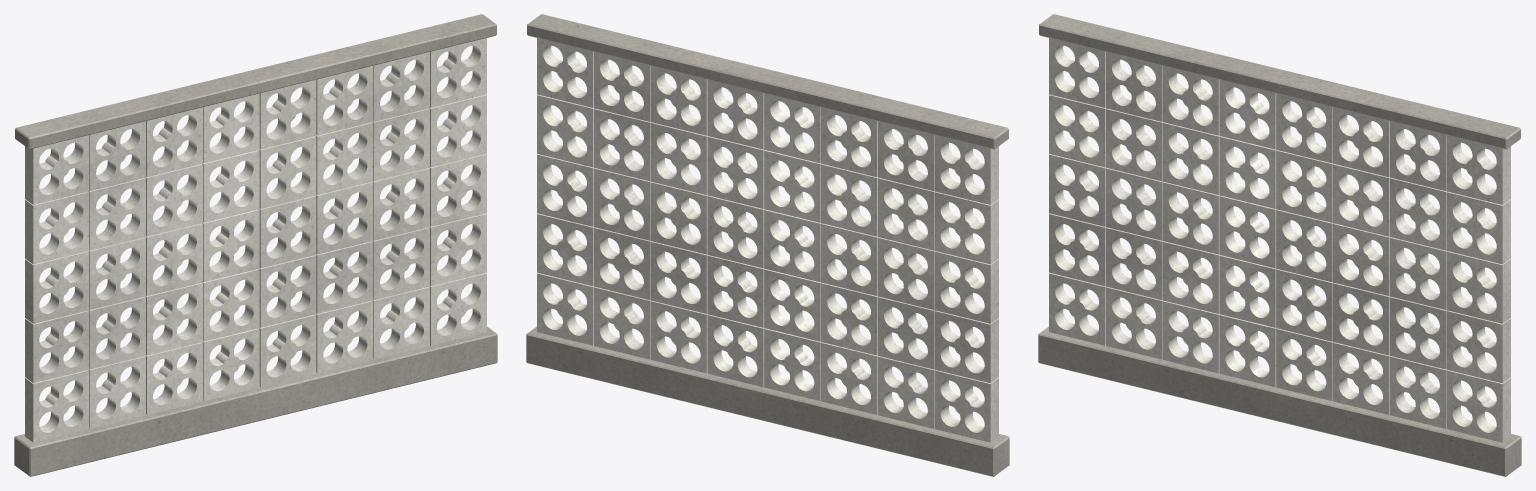
File: breeze_wall.glb
The picture shows the model from 3 angles, left to right: view 1: azimuth 30°, elevation 25°; view 2: azimuth 150°, elevation 25°; view 3: azimuth 330°, elevation 25°; orthographic projection.
Visible parts, largest first — view 1: breeze_wall_breeze, breeze_wall_concrete; view 2: breeze_wall_breeze, breeze_wall_concrete; view 3: breeze_wall_breeze, breeze_wall_concrete.
Part boxes in pixels (box(x1,y1,x2,y2)): breeze_wall_breeze: box(25, 38, 486, 442); breeze_wall_concrete: box(14, 14, 497, 476); breeze_wall_breeze: box(537, 38, 998, 442); breeze_wall_concrete: box(526, 14, 1009, 476); breeze_wall_breeze: box(1049, 38, 1510, 442); breeze_wall_concrete: box(1038, 14, 1521, 476).
Size of the model in its own units: 3.3 by 2.28 by 0.2.
2 materials, 2 textured.
